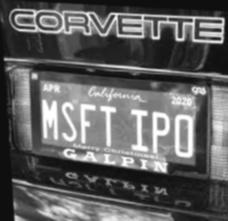License_Plate: (28, 70, 209, 173)
